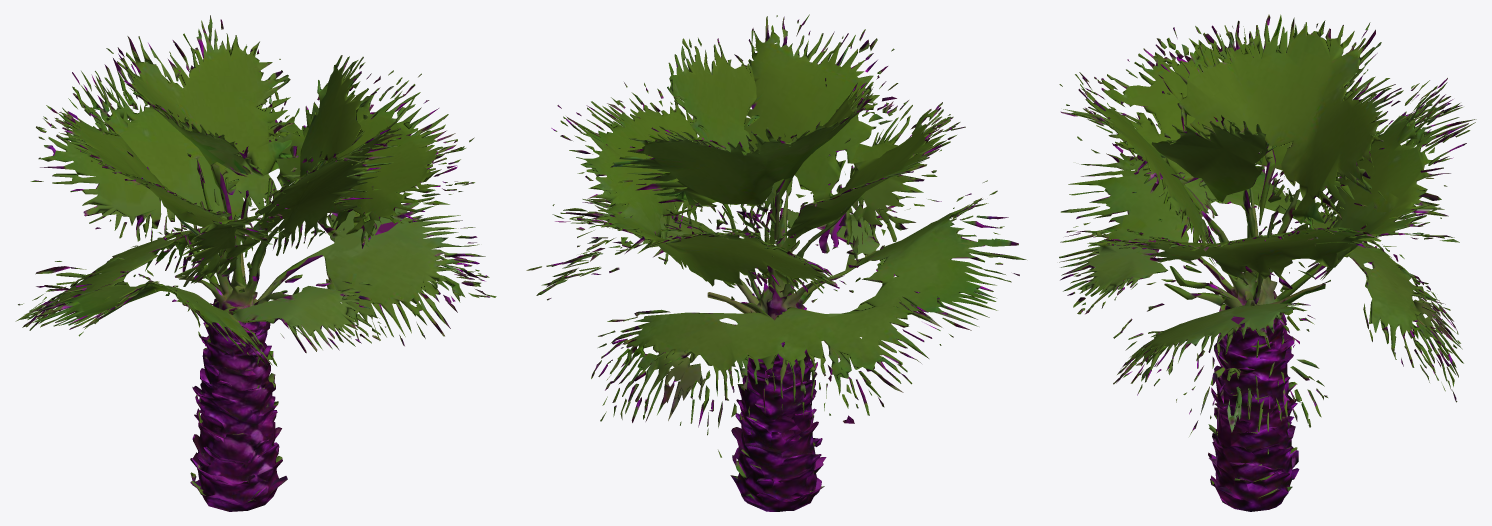
File: sabal.glb
3 views of the same model, side by side, from view 1: azimuth 30°, elevation 25°; view 2: azimuth 150°, elevation 25°; view 3: azimuth 270°, elevation 25° (orthographic). The views are drawn at different scales.
Visible parts, largest first — view 1: world; view 2: world; view 3: world.
Boxes of the visible parts, x1,y1,x2,y2 form: world: [15, 15, 496, 511]; world: [526, 14, 1026, 511]; world: [1059, 14, 1476, 511].
Bounding box in the file's own units: 1.96 × 1.84 × 1.59.
1 material, 1 textured.
